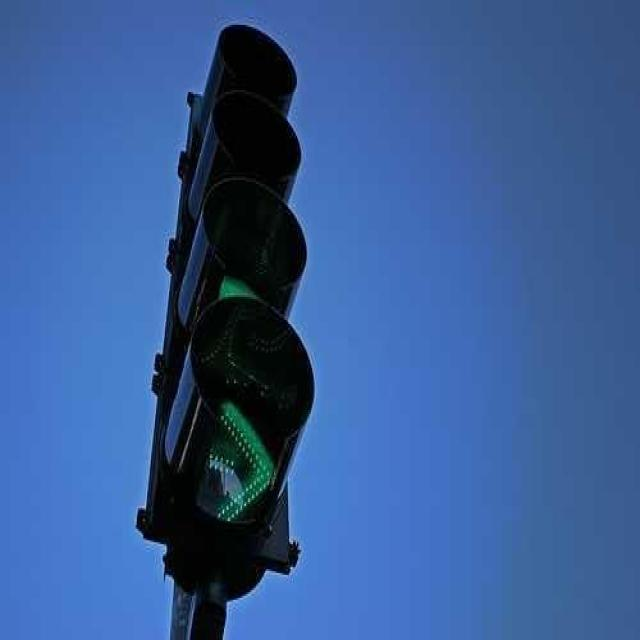Traffic Light -Green-: (139, 16, 335, 624)
